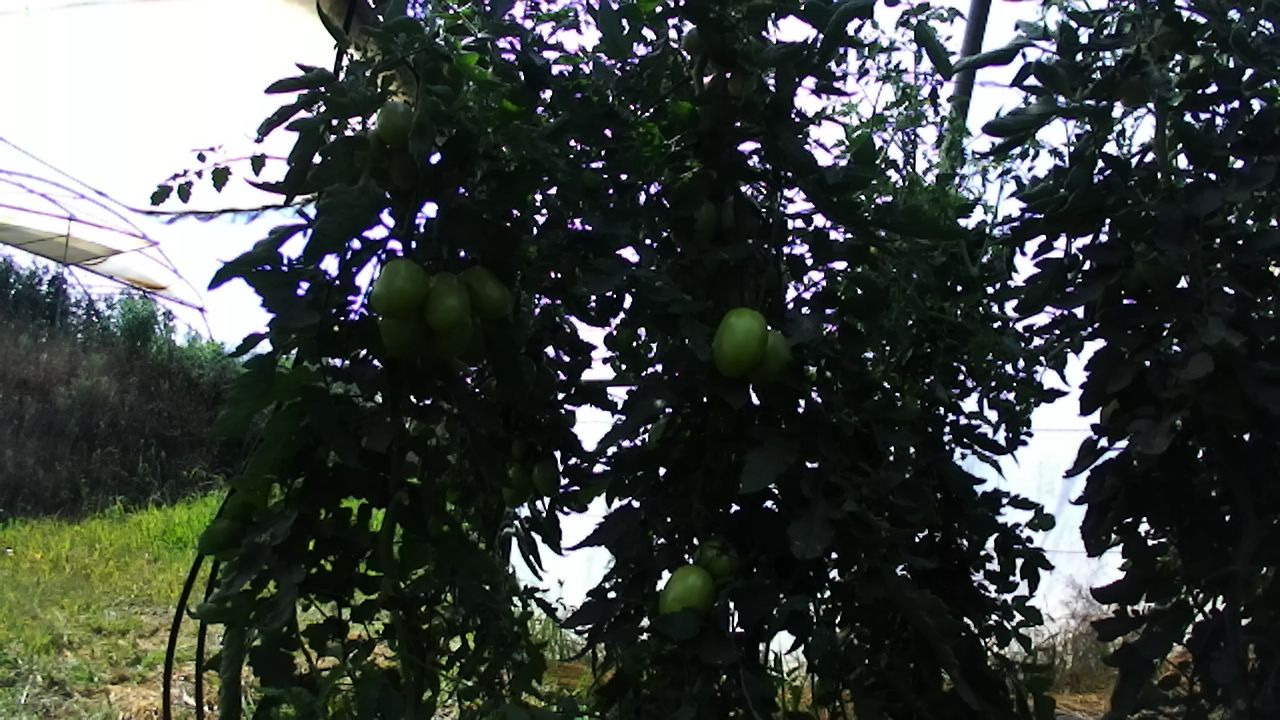tomato: (708, 303, 771, 381), (366, 254, 433, 319), (655, 559, 718, 622), (458, 262, 514, 324), (419, 268, 471, 334), (372, 97, 415, 149), (529, 456, 562, 497)
